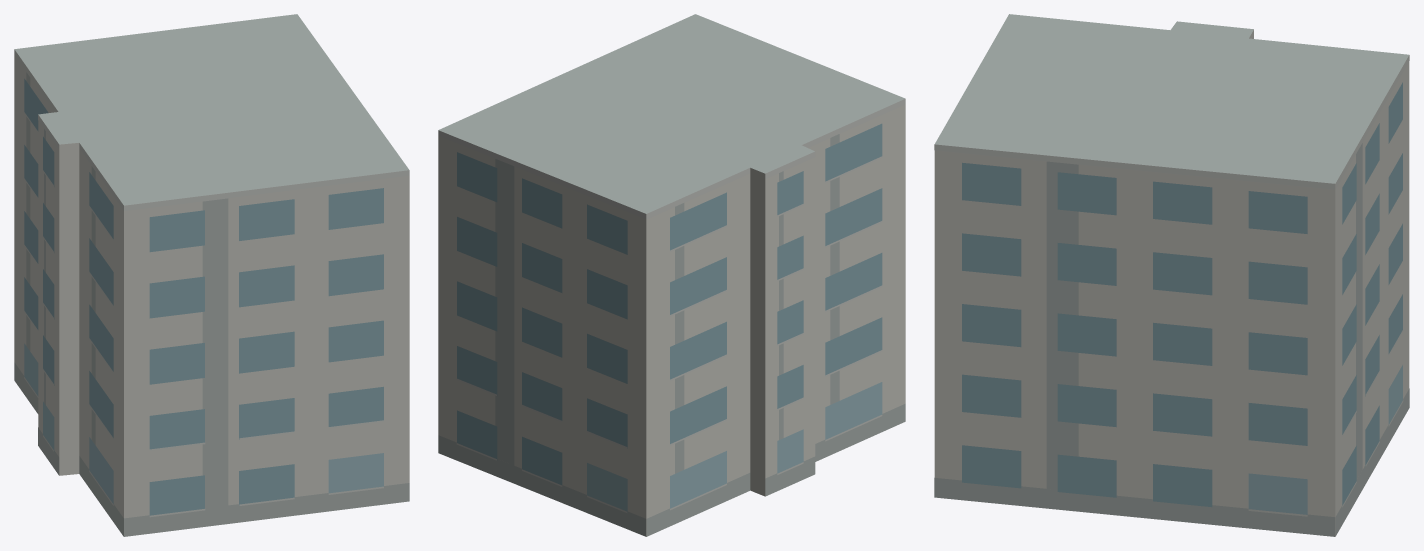
The model's file is survey-upis-32898737.glb.
The picture shows the model from 3 angles, left to right: view 1: azimuth 30°, elevation 25°; view 2: azimuth 150°, elevation 25°; view 3: azimuth 270°, elevation 25°; orthographic projection. The views are drawn at different scales.
Visible parts, largest first — view 1: survey-upis-32898737.tmp; view 2: survey-upis-32898737.tmp; view 3: survey-upis-32898737.tmp.
Part boxes in pixels (x1=…): survey-upis-32898737.tmp: x1=14, y1=14, x2=409, y2=536; survey-upis-32898737.tmp: x1=438, y1=14, x2=905, y2=536; survey-upis-32898737.tmp: x1=934, y1=14, x2=1409, y2=536.
Bounding box in the file's own units: 14.66 × 14.2 × 17.32.
